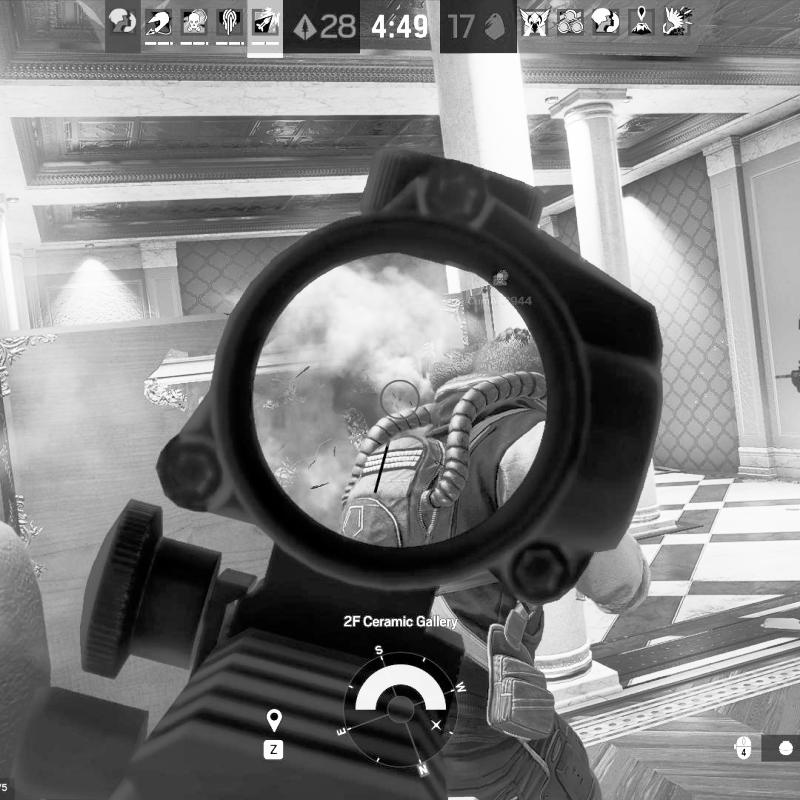Character: (308, 311, 656, 784)
Friend_label: (466, 268, 535, 309)
Head: (430, 319, 550, 395)
